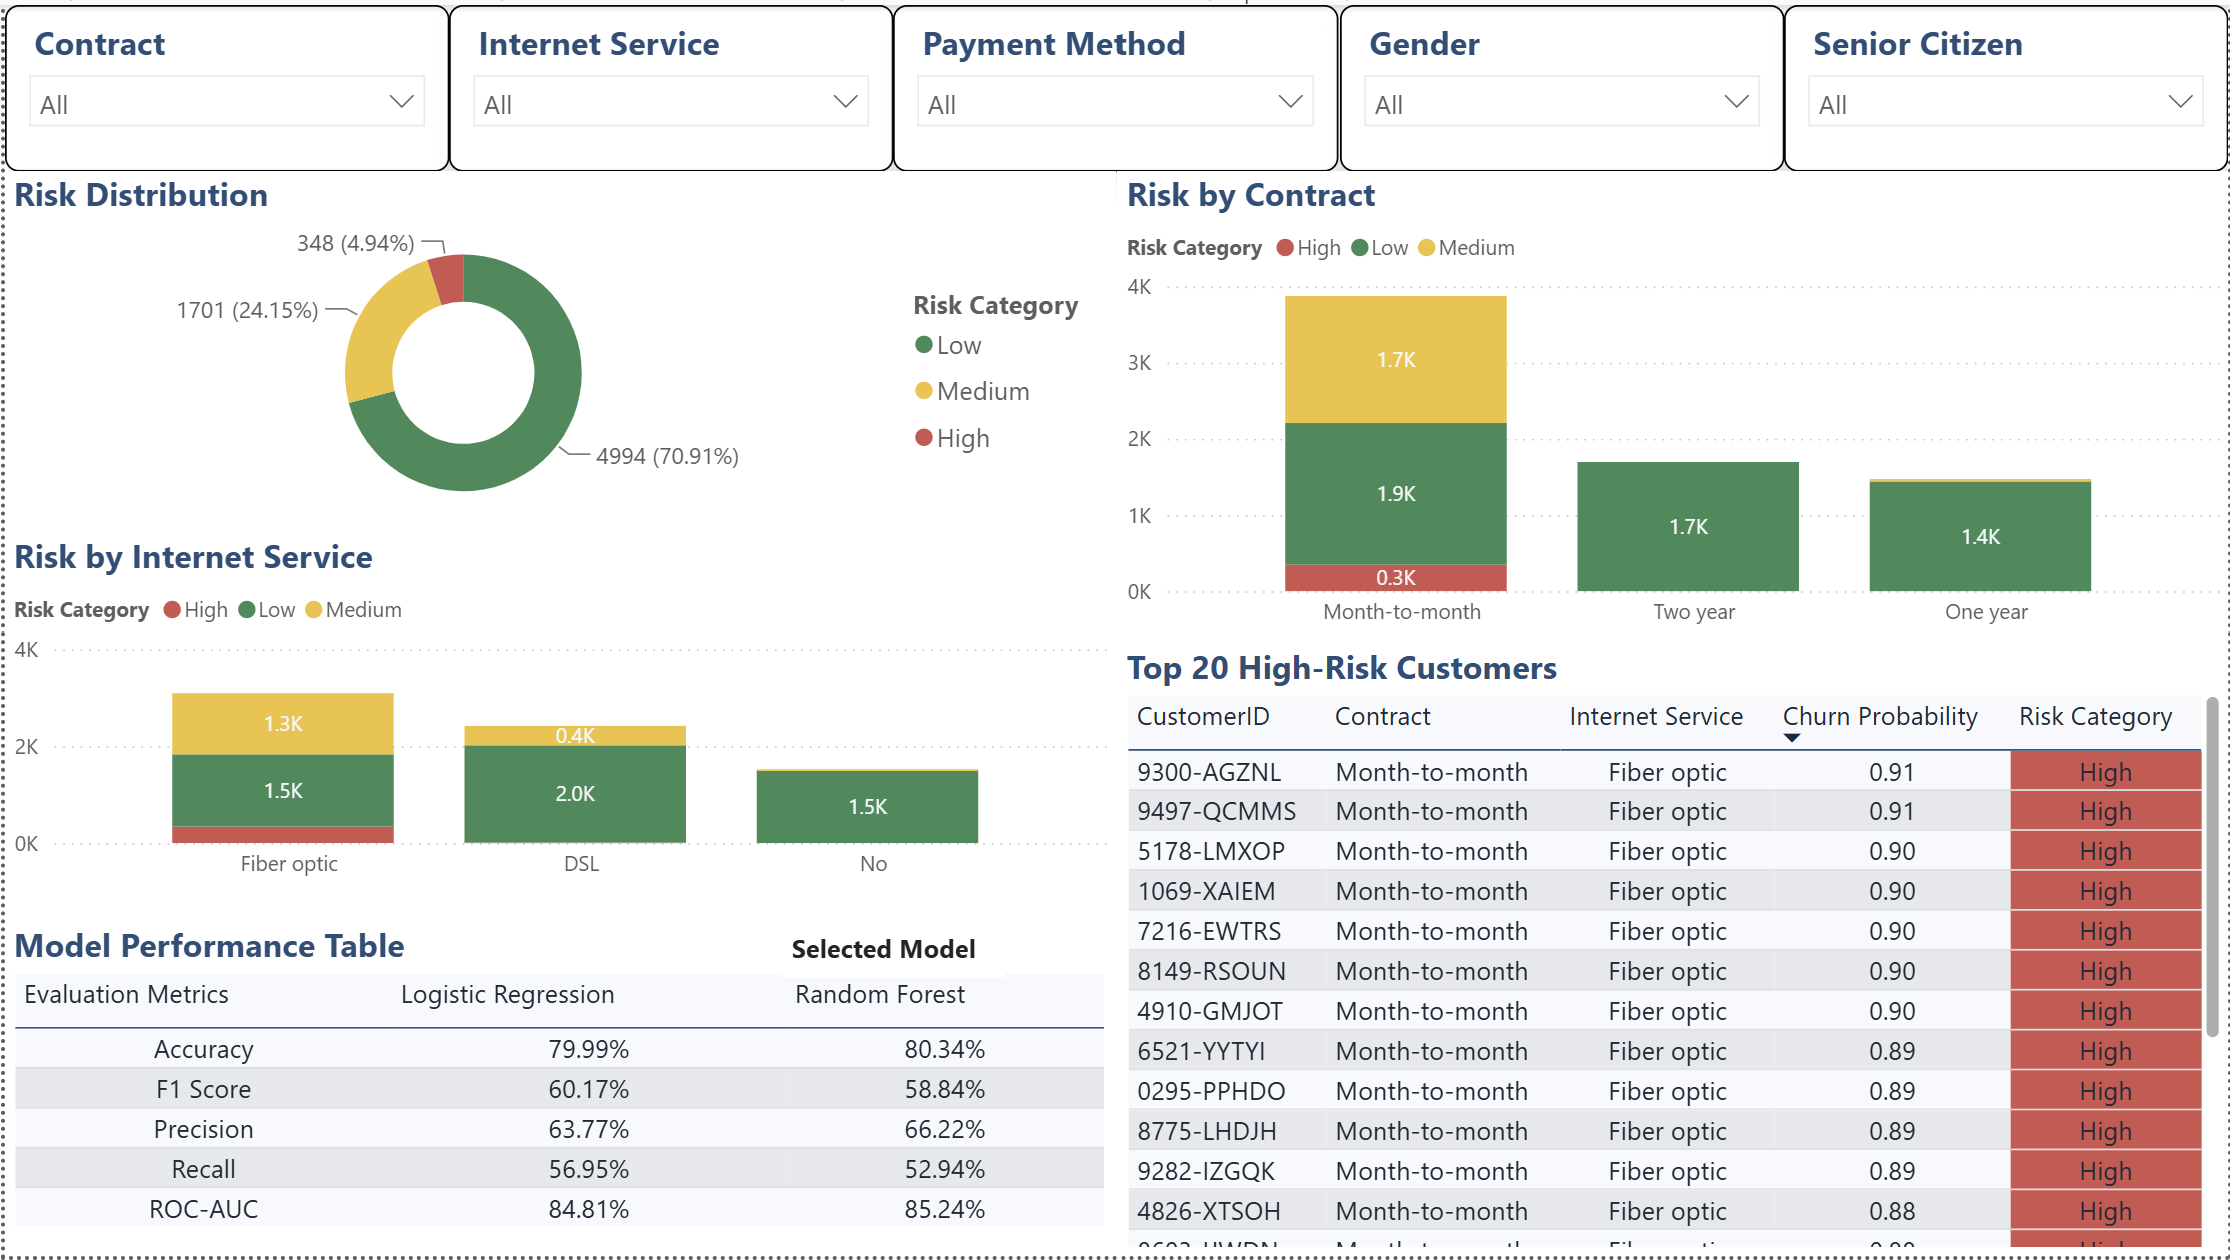

The dashboard page shown, as its layout file describes it:
{"tool":"powerbi","page":{"name":"Predictive Analytics","canvas":[1280,720],"ordinal":3},"visuals":[{"type":"slicer","fields":{"Values":["billing.contract"]},"box":[0,0,256,96],"z":0},{"type":"slicer","fields":{"Values":["services.internet_service"]},"box":[256,0,256,96],"z":1},{"type":"slicer","fields":{"Values":["billing.payment_method"]},"box":[512,0,256,96],"z":2},{"type":"slicer","fields":{"Values":["customers.gender"]},"box":[768,0,256,96],"z":3},{"type":"slicer","fields":{"Values":["customers.senior_citizen"]},"box":[1024,0,256,96],"z":4},{"type":"donutChart","title":"Risk Distribution","fields":{"Y":["Measures (2).Customer Count Dist Pred"],"Category":["customer_predictions.Risk Category"]},"box":[0,96,640,208],"z":5},{"type":"columnChart","title":"Risk by Contract","fields":{"Category":["customer_predictions.Contract"],"Series":["customer_predictions.Risk Category"],"Y":["Measures (2).Customer Count Dist Pred"]},"box":[640,96,640,272],"z":6},{"type":"columnChart","title":"Risk by Internet Service","fields":{"Series":["customer_predictions.Risk Category"],"Y":["Measures (2).Customer Count Dist Pred"],"Category":["customer_predictions.Internet Service"]},"box":[0,304,640,208],"z":7},{"type":"tableEx","title":"Top 20 High-Risk Customers","fields":{"Values":["customer_predictions.CustomerID","customer_predictions.Contract","customer_predictions.Internet Service","customer_predictions.Churn Probability","customer_predictions.Risk Category"]},"box":[640,368,640,352],"z":8},{"type":"tableEx","title":"Model Performance Table","fields":{"Values":["Model Performance.Metrics","Model Performance.Logistic Regression","Model Performance.Random Forest"]},"box":[0,528,640,192],"z":9},{"type":"textbox","box":[448,528,128,32],"z":10}]}

Visuals, with their boxes in screenshot pixels (x1, y1, x2, y2), scaled from the page's 1280x720 canvas onto the 2230x1260 screenshot:
slicer - billing.contract: left=0, top=0, right=446, bottom=168
slicer - services.internet_service: left=446, top=0, right=892, bottom=168
slicer - billing.payment_method: left=892, top=0, right=1338, bottom=168
slicer - customers.gender: left=1338, top=0, right=1784, bottom=168
slicer - customers.senior_citizen: left=1784, top=0, right=2229, bottom=168
"Risk Distribution" donutChart: left=0, top=168, right=1115, bottom=532
"Risk by Contract" columnChart: left=1115, top=168, right=2229, bottom=644
"Risk by Internet Service" columnChart: left=0, top=532, right=1115, bottom=896
"Top 20 High-Risk Customers" tableEx: left=1115, top=644, right=2229, bottom=1259
"Model Performance Table" tableEx: left=0, top=924, right=1115, bottom=1259
textbox: left=780, top=924, right=1004, bottom=980
